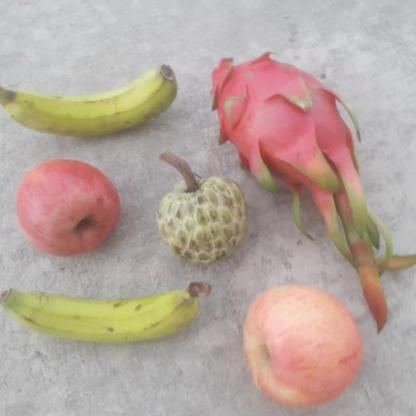annona: (155, 173, 251, 268)
apple: (236, 282, 365, 412), (5, 156, 126, 267)
banana: (0, 58, 182, 138), (0, 277, 211, 344)
pitaya: (204, 49, 364, 204)
